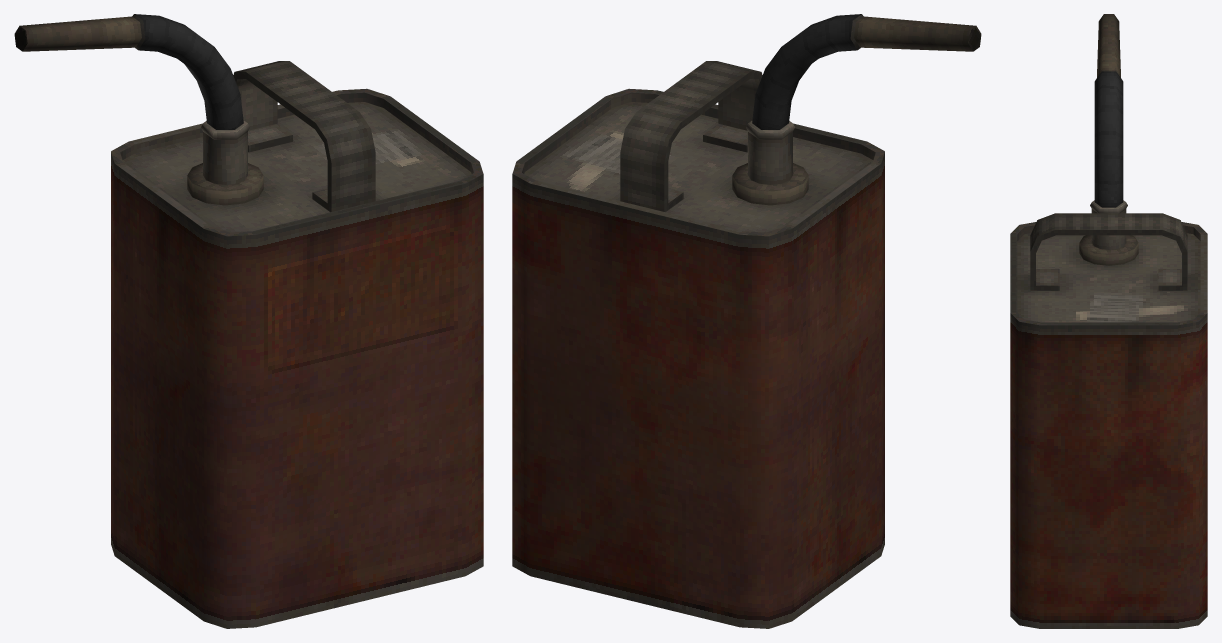
File: jerrycan_mx_1.glb
3 renders of one model, left to right at view 1: azimuth 30°, elevation 25°; view 2: azimuth 150°, elevation 25°; view 3: azimuth 270°, elevation 25°, orthographic. The views are drawn at different scales.
Parts seen in each view (by area): view 1: jerrycan_mx_1; view 2: jerrycan_mx_1; view 3: jerrycan_mx_1.
Boxes of the visible parts, bbox=[...] form: jerrycan_mx_1: bbox=[14, 14, 483, 628]; jerrycan_mx_1: bbox=[512, 14, 981, 628]; jerrycan_mx_1: bbox=[1010, 14, 1207, 628].
Size of the model in its own units: 0.4522 by 0.6173 by 0.24.
1 material, 1 textured.
